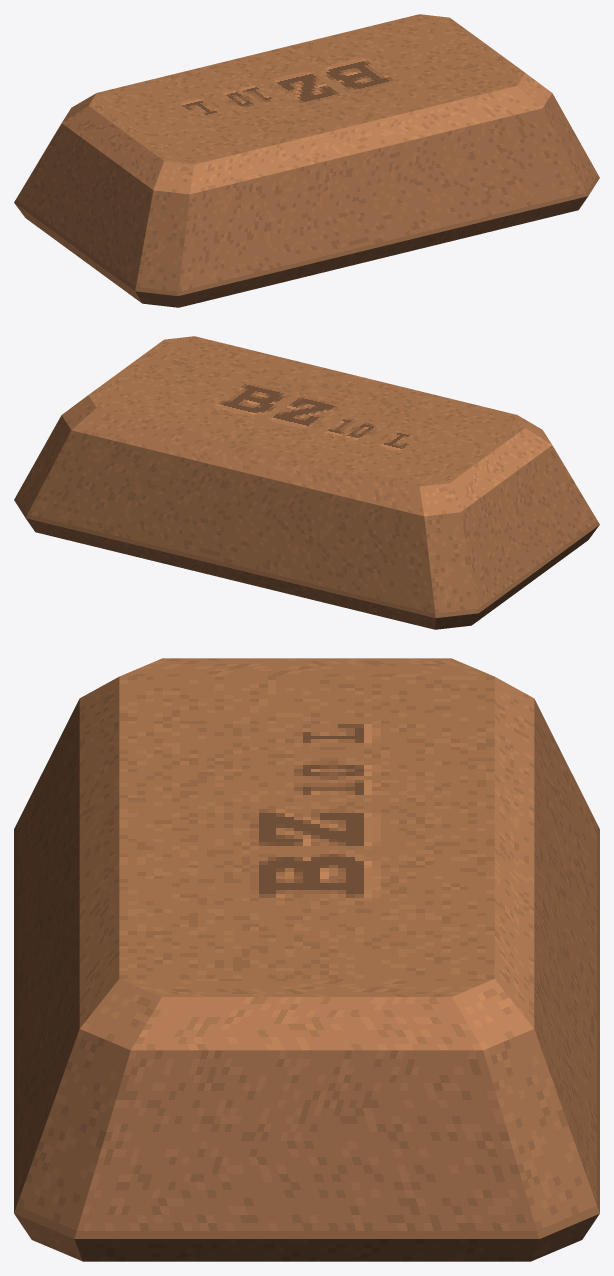
The model's file is 10l_bronze.glb.
3 renders of one model, top to bottom at view 1: azimuth 30°, elevation 25°; view 2: azimuth 150°, elevation 25°; view 3: azimuth 270°, elevation 25°, orthographic. The views are drawn at different scales.
Parts seen in each view (by area): view 1: block_one-piece cast ingot; view 2: block_one-piece cast ingot; view 3: block_one-piece cast ingot.
Boxes of the visible parts, x1,y1,x2,y2 form: block_one-piece cast ingot: [14, 14, 599, 307]; block_one-piece cast ingot: [14, 336, 599, 629]; block_one-piece cast ingot: [14, 658, 599, 1261].
Bounding box in the file's own units: 0.39 × 0.0939 × 0.2218.
1 material, 1 textured.
